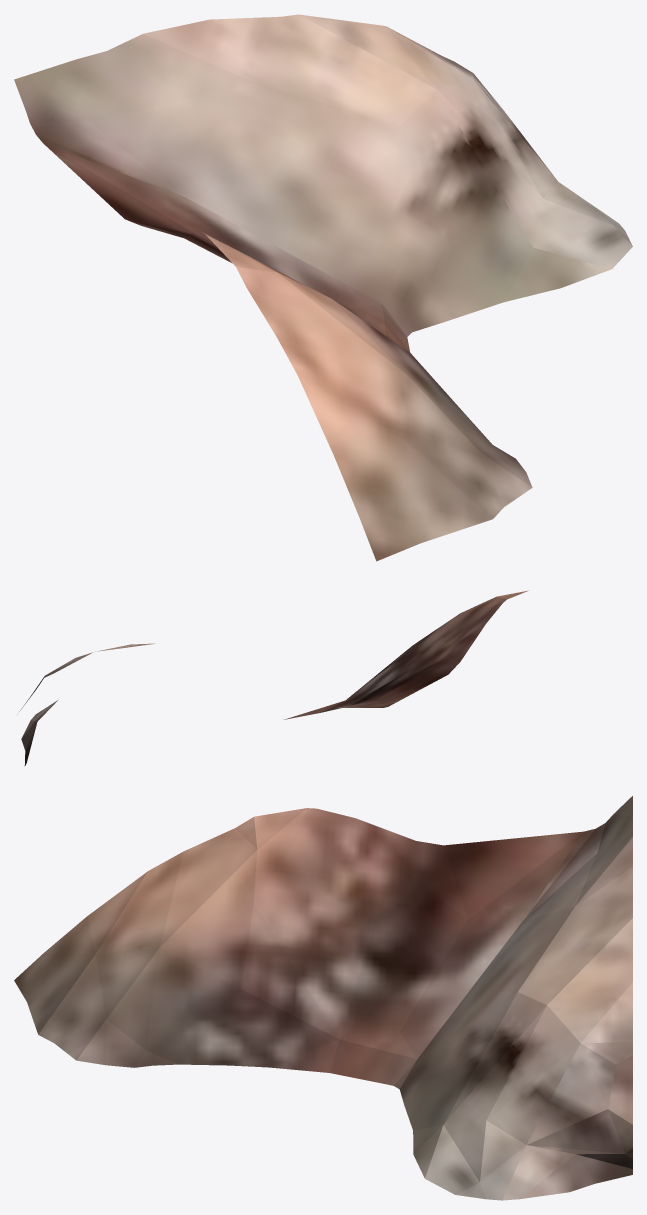
The picture shows the model from 3 angles, top to bottom: view 1: azimuth 30°, elevation 25°; view 2: azimuth 150°, elevation 25°; view 3: azimuth 270°, elevation 25°; orthographic projection. The views are drawn at different scales.
Size of the model in its own units: 0.2364 by 0.0987 by 0.2808.
Materials: 1 (1 with a texture image).
